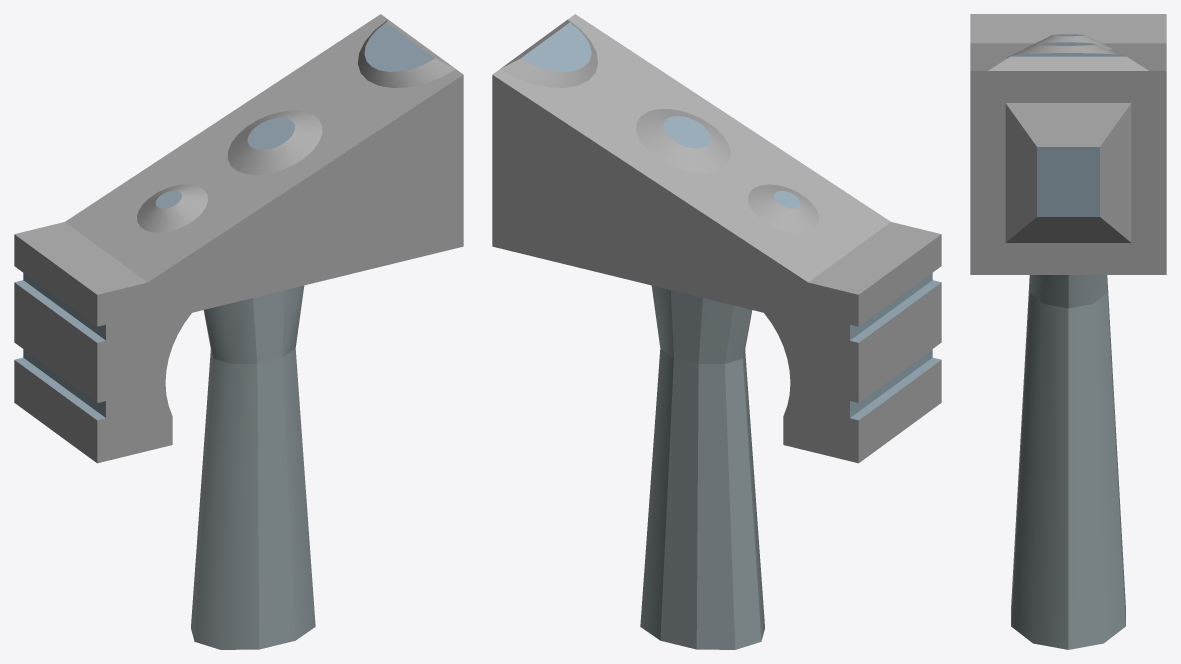
The model's file is PreProgrammingTool.fbx.
3 renders of one model, left to right at view 1: azimuth 30°, elevation 25°; view 2: azimuth 150°, elevation 25°; view 3: azimuth 270°, elevation 25°, orthographic. The views are drawn at different scales.
Visible parts, largest first — view 1: Model; view 2: Model; view 3: Model.
Boxes of the visible parts, <box> form: Model: <box>14,14,463,649</box>; Model: <box>492,14,941,649</box>; Model: <box>970,14,1166,649</box>.
Size of the model in its own units: 86.69 by 119 by 32.58.
